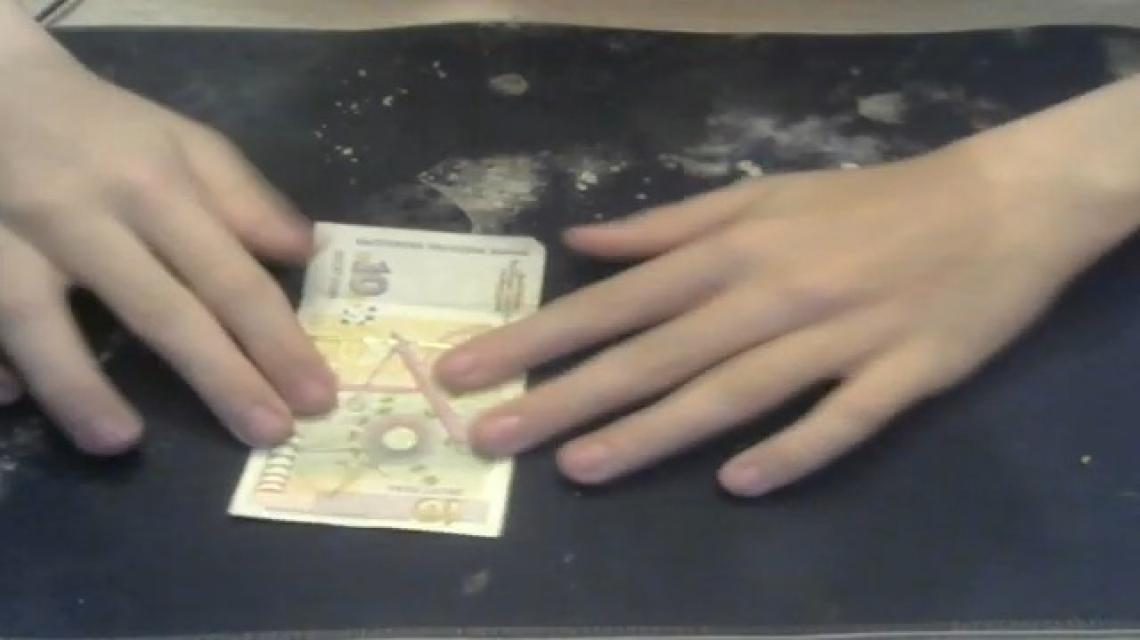10leva: (389, 456, 482, 538), (328, 238, 417, 307)
